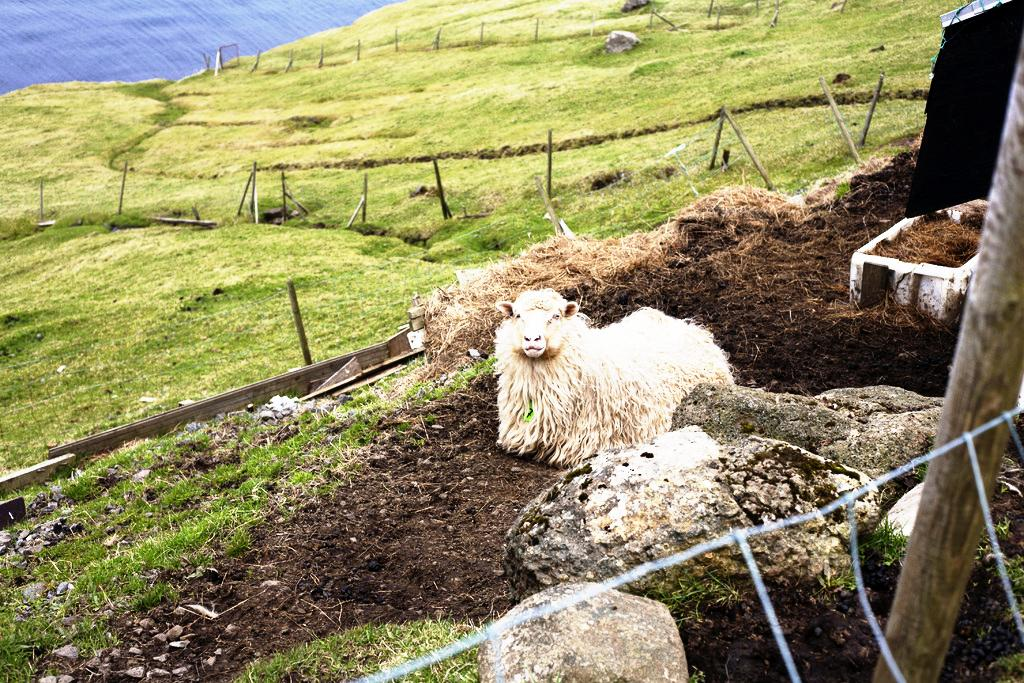Sheep: (492, 284, 742, 475)
